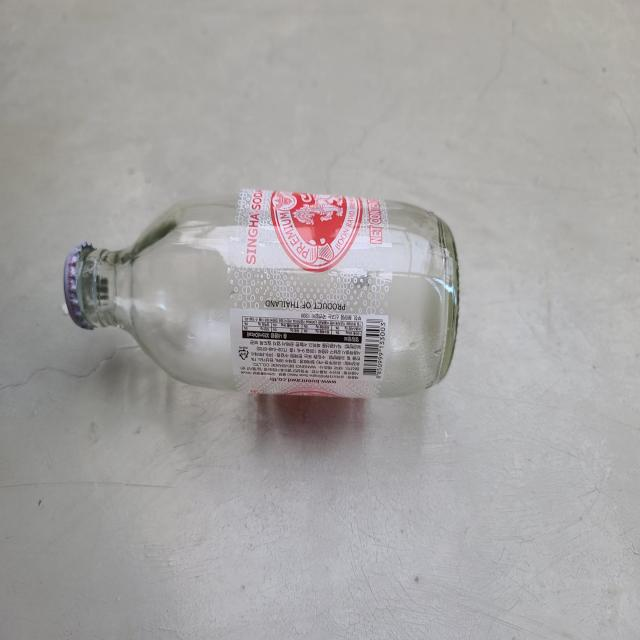glass: (63, 188, 460, 398)
